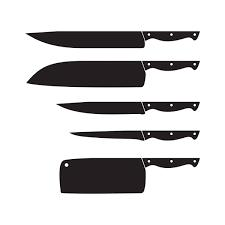Knife: (59, 157, 200, 193), (26, 60, 199, 87), (25, 30, 200, 48), (56, 101, 200, 114), (69, 130, 199, 140)
